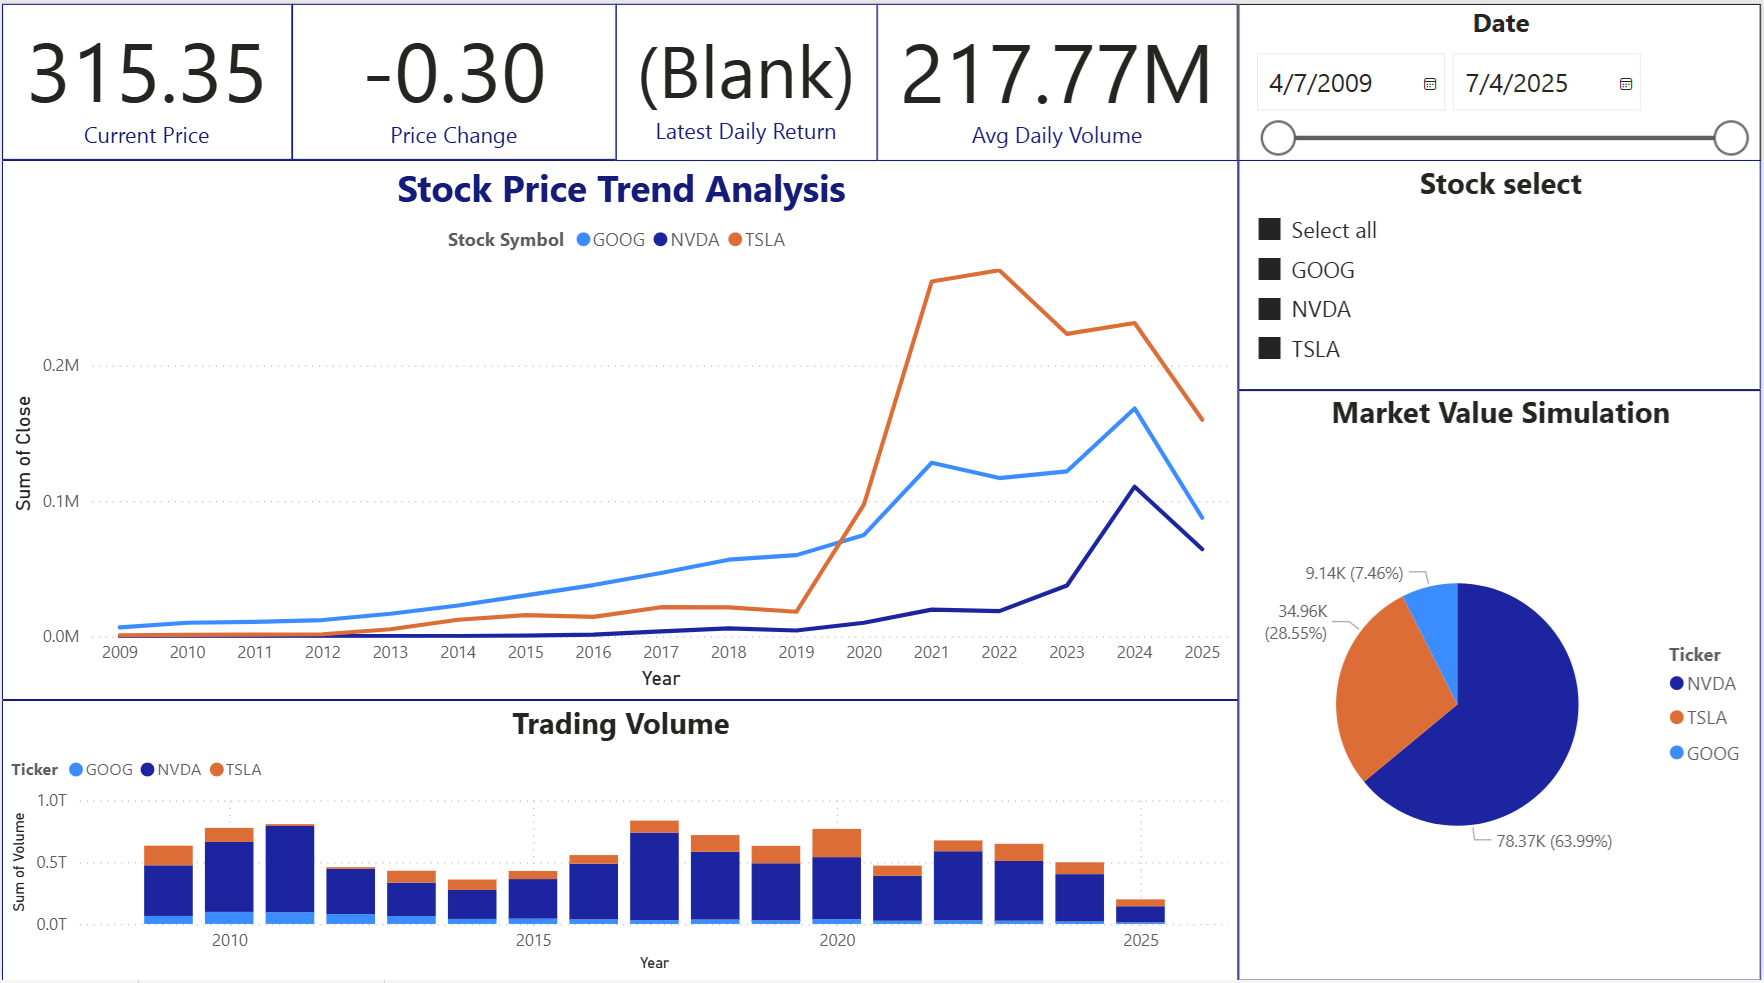

Layout of this report page (visuals, bound fields, positions):
{"tool":"powerbi","page":{"name":"Executive Dashboard","canvas":[1280,720],"ordinal":0},"visuals":[{"type":"lineChart","title":"Stock Price Trend Analysis","fields":{"Category":["Prices.Date.Variation.Date Hierarchy.Year","Prices.Date.Variation.Date Hierarchy.Quarter","Prices.Date.Variation.Date Hierarchy.Month","Prices.Date.Variation.Date Hierarchy.Day"],"Series":["Prices.Ticker"],"Y":["Sum(Prices.Close)"]},"box":[0,123.9,899.4,392.6],"z":0},{"type":"slicer","title":"Date","fields":{"Values":["Prices.Date"]},"box":[899.4,9.8,380.4,114.1],"z":1000},{"type":"card","fields":{"Values":["Prices.Current Price"]},"box":[0,9.6,211.3,113.9],"z":2000},{"type":"card","fields":{"Values":["Prices.Price Change"]},"box":[211.3,9.7,236,113.9],"z":3000},{"type":"card","fields":{"Values":["Prices.Avg Daily Volume"]},"box":[636.8,9.6,262.6,114.1],"z":4000},{"type":"columnChart","title":"Trading Volume","fields":{"Category":["Prices.Date.Variation.Date Hierarchy.Year","Prices.Date.Variation.Date Hierarchy.Quarter","Prices.Date.Variation.Date Hierarchy.Month","Prices.Date.Variation.Date Hierarchy.Day"],"Y":["Sum(Prices.Volume)"],"Series":["Prices.Ticker"]},"box":[0,516,898.8,204.5],"z":5000},{"type":"pieChart","title":"Market Value Simulation","fields":{"Category":["Prices.Ticker"],"Y":["Prices.Market Value Simulation"]},"box":[899.4,290.8,380.4,429.5],"z":6000},{"type":"card","fields":{"Values":["Prices.Latest Daily Return"]},"box":[446.6,9.6,190.2,114.1],"z":7000},{"type":"slicer","title":"Stock select","fields":{"Values":["Prices.Ticker"]},"box":[899.4,123.9,380.4,166.9],"z":8000}]}

Visuals, with their boxes in screenshot pixels (x1, y1, x2, y2), scaled from the page's 1280x720 canvas onto the 1764x983 screenshot:
"Stock Price Trend Analysis" lineChart: [left=0, top=169, right=1239, bottom=705]
"Date" slicer: [left=1239, top=13, right=1763, bottom=169]
card - Prices.Current Price: [left=0, top=13, right=291, bottom=169]
card - Prices.Price Change: [left=291, top=13, right=616, bottom=169]
card - Prices.Avg Daily Volume: [left=878, top=13, right=1239, bottom=169]
"Trading Volume" columnChart: [left=0, top=704, right=1239, bottom=982]
"Market Value Simulation" pieChart: [left=1239, top=397, right=1763, bottom=982]
card - Prices.Latest Daily Return: [left=615, top=13, right=878, bottom=169]
"Stock select" slicer: [left=1239, top=169, right=1763, bottom=397]
